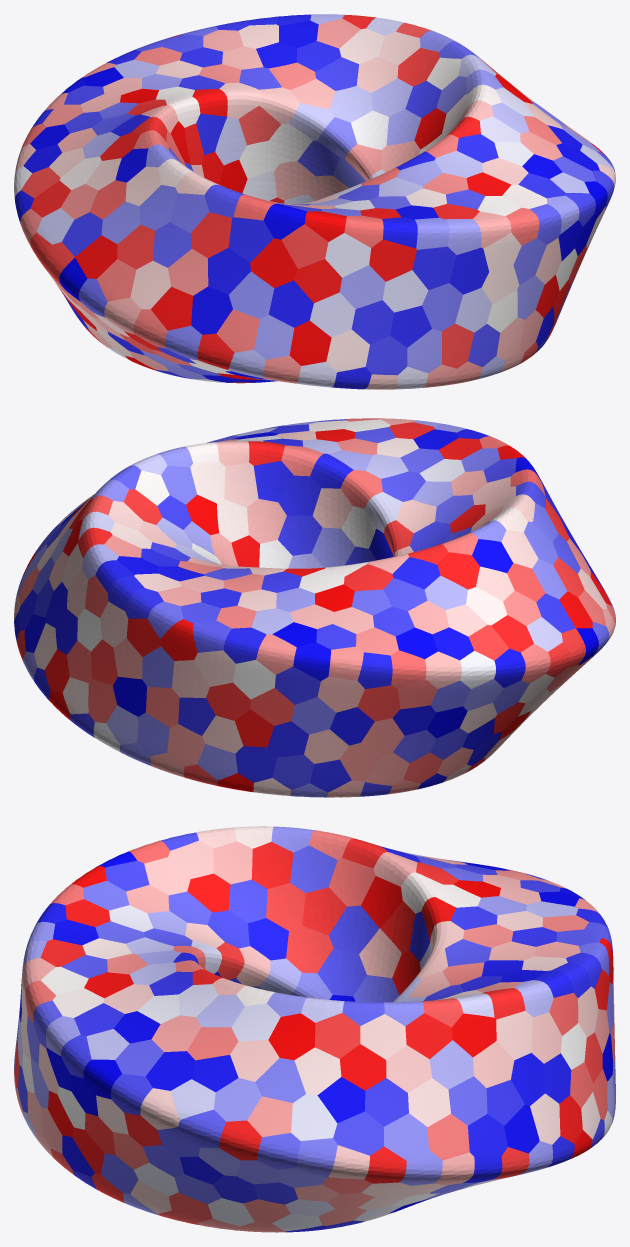
Rendered from Ours_600_mobius1_Iter26_RVD.obj.
3 renders of one model, top to bottom at view 1: azimuth 30°, elevation 25°; view 2: azimuth 150°, elevation 25°; view 3: azimuth 270°, elevation 25°, orthographic. The views are drawn at different scales.
Parts seen in each view (by area): view 1: 3D_Object; view 2: 3D_Object; view 3: 3D_Object.
Boxes of the visible parts, bbox=[...] form: 3D_Object: bbox=[14, 14, 615, 389]; 3D_Object: bbox=[14, 418, 615, 797]; 3D_Object: bbox=[14, 826, 615, 1232].
Bounding box in the file's own units: 6.8 × 2.63 × 6.26.
1 material, 1 textured.
